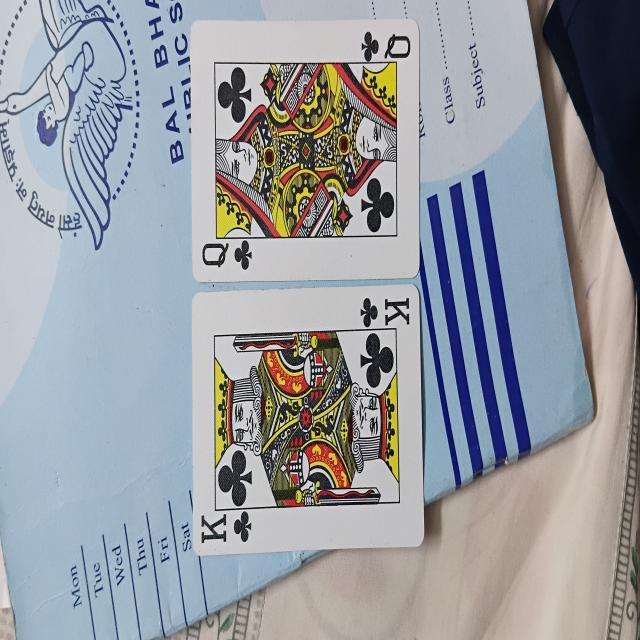KC: (190, 287, 427, 557)
QC: (189, 14, 420, 281)
